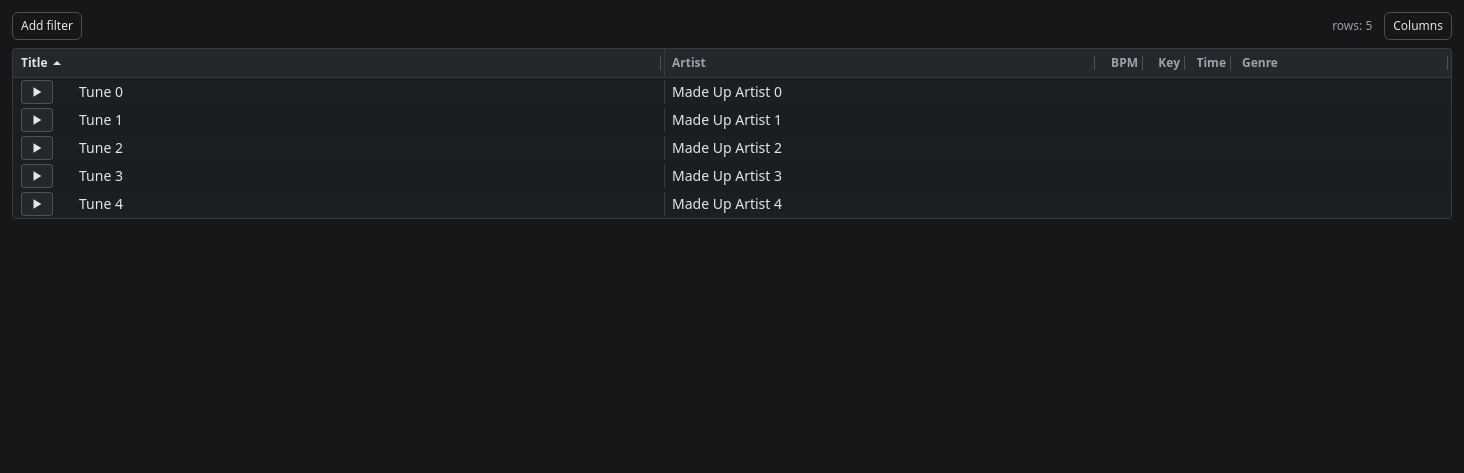
Test: filter chips › offers a format once the formats on the screen are known, and the chip names it
This screenshot has width=1464, height=473.
Click the button "Add filter" at (47, 26), box [12,12,82,40]
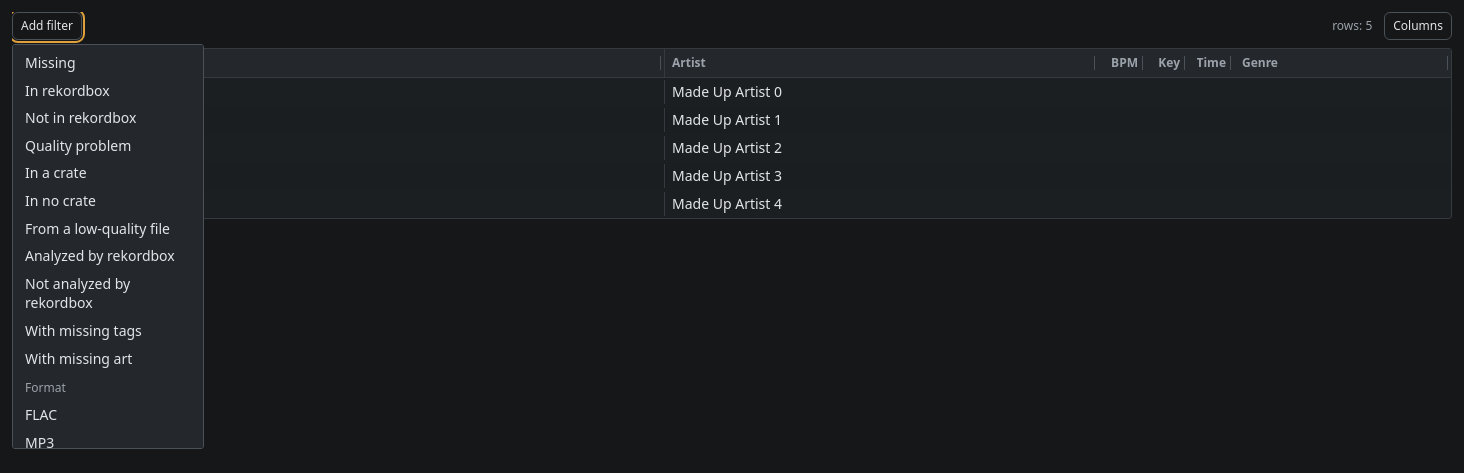
Check: the text "Format" is shown, box [25,379,66,396]
Click the button "FLAC" at (108, 415), box [17,401,199,428]
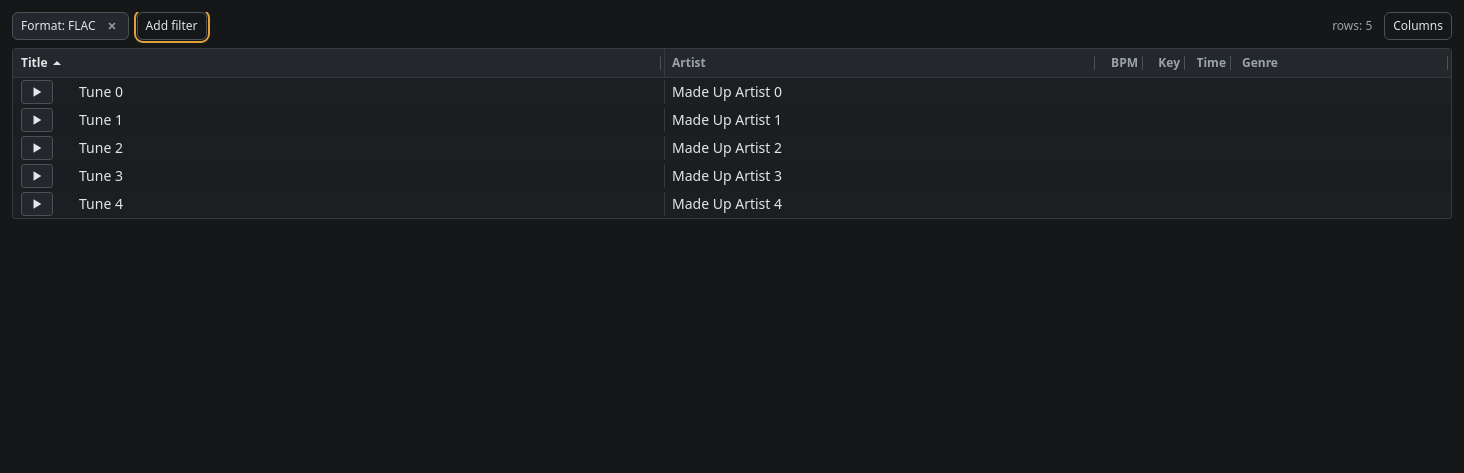
Click the button "Add filter" at (172, 26), box [137,12,206,40]
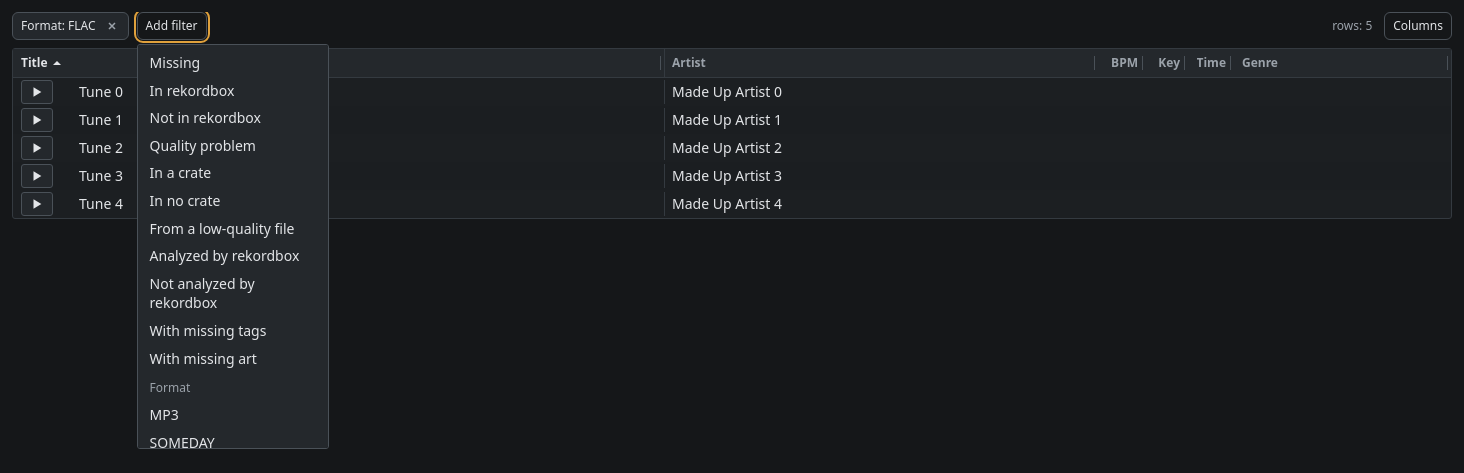
Click the button "SOMEDAY" at (233, 442), box [142,428,324,456]
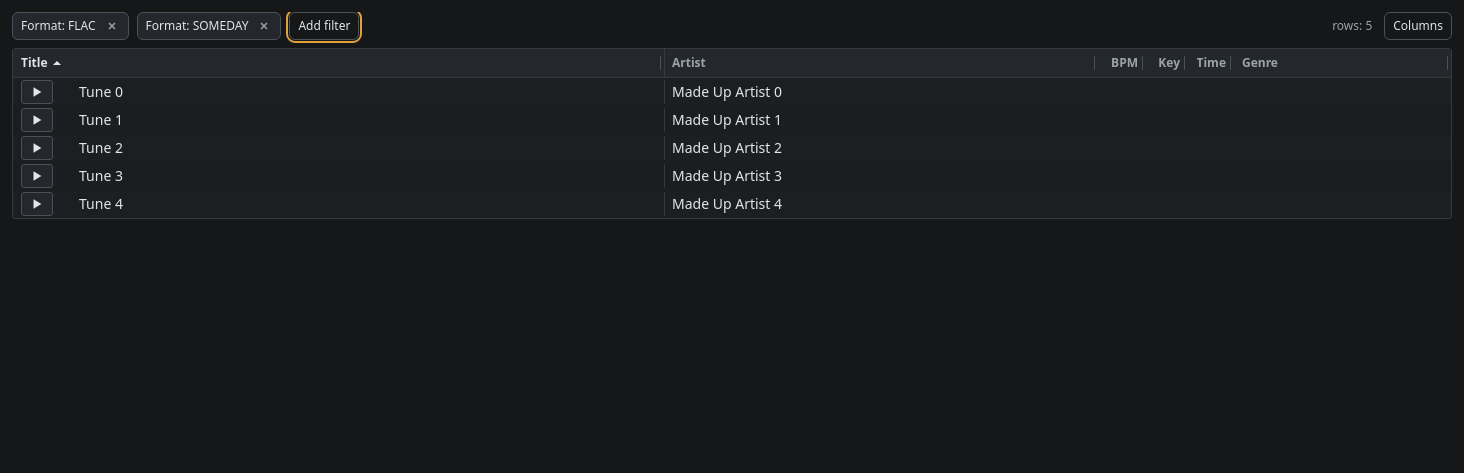
Check: the number of list items is 2, box [12,12,129,40]; [137,12,281,40]
